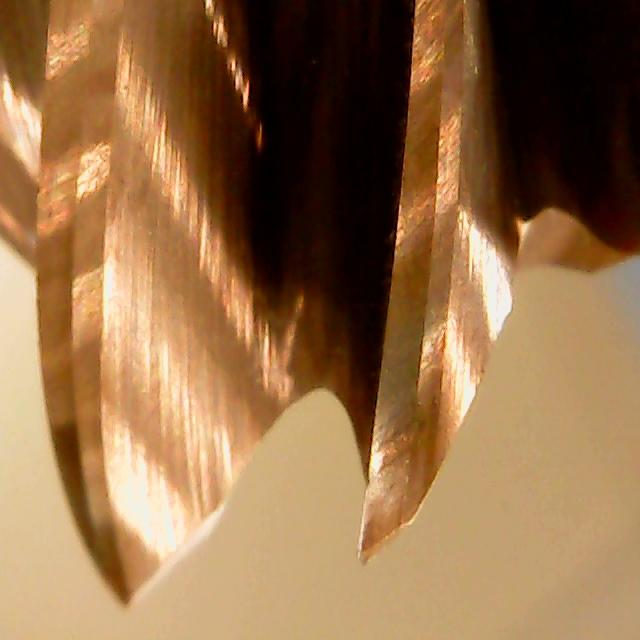Tool-wear-class-0: (348, 248, 452, 572)
